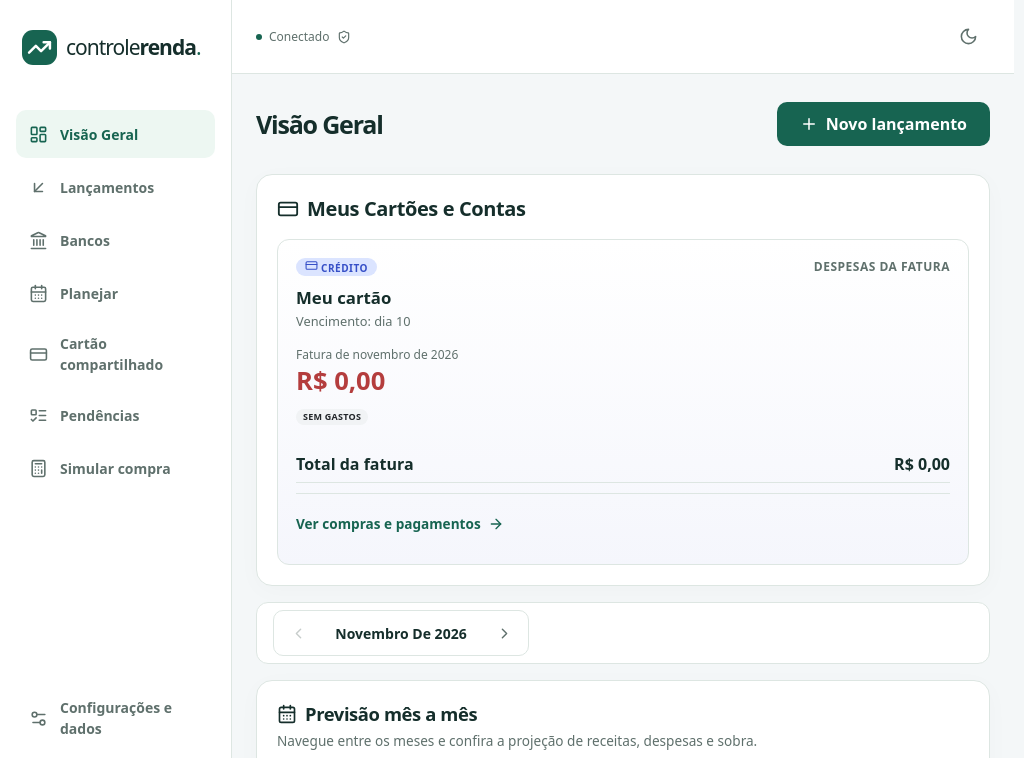
Test case: reaproveita uma consulta em andamento ao navegar para fora e voltar às telas bancárias
The width and height of the screenshot is (1024, 758).
Click the button "Planejar": (116, 293) [16, 269, 215, 317]
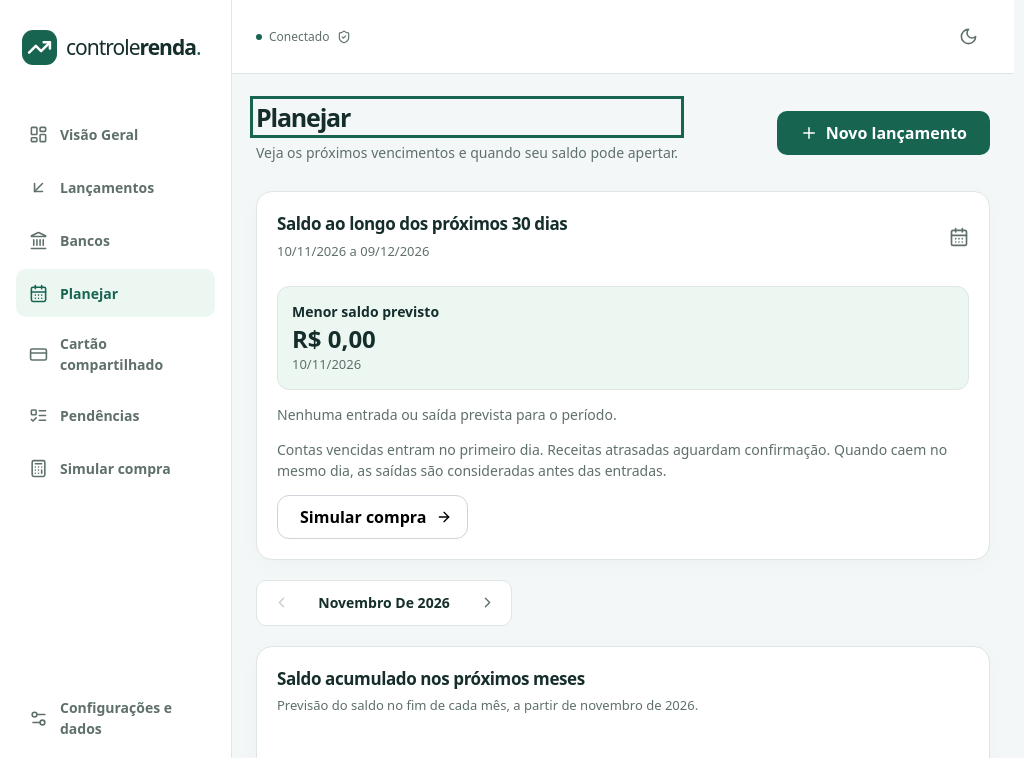
Click the button "Pendências": (116, 415) [16, 391, 215, 439]
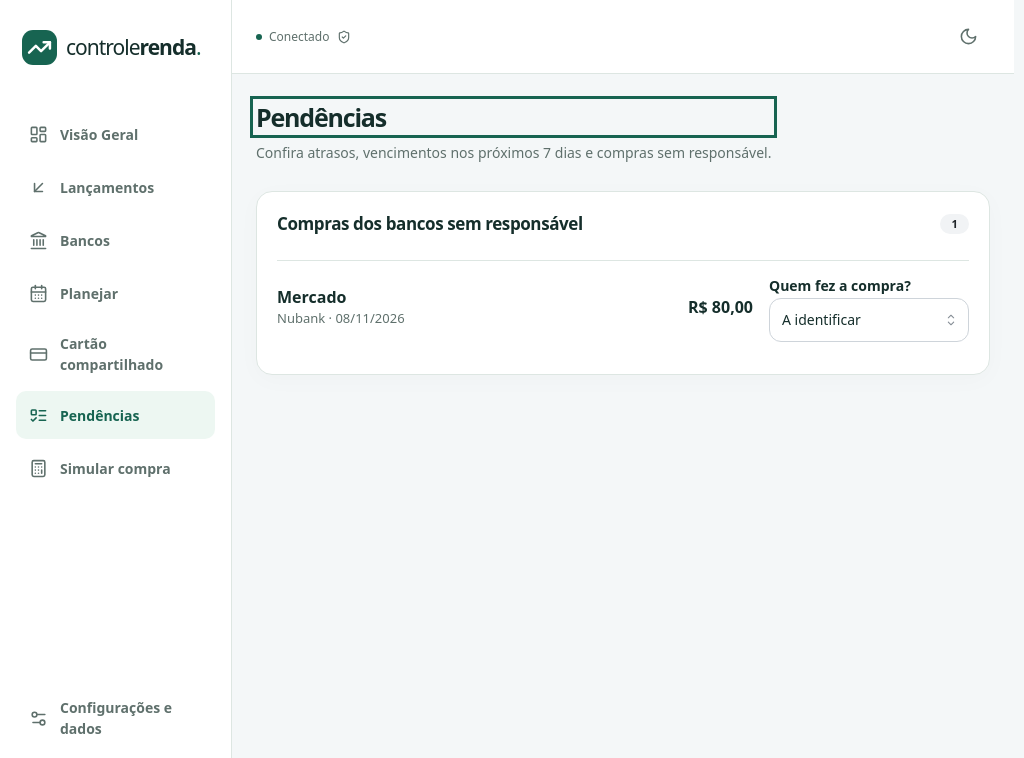
expect the element "Compras dos bancos sem responsável" is shown: met, box [256, 191, 990, 375]
